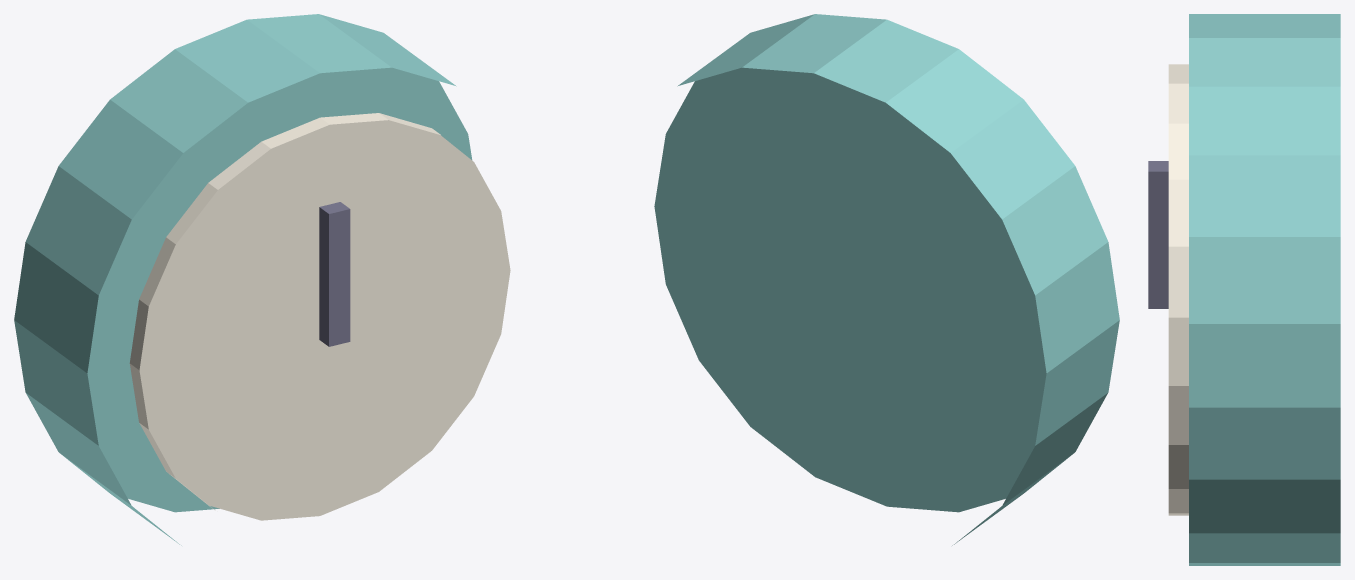
The model's file is clock.glb.
3 views of the same model, side by side, from view 1: azimuth 30°, elevation 25°; view 2: azimuth 150°, elevation 25°; view 3: azimuth 270°, elevation 25° (orthographic). The views are drawn at different scales.
Parts seen in each view (by area): view 1: face, case, hand; view 2: case; view 3: case, face, hand.
Boxes of the visible parts, <box> form: face: <box>129,113,510,520</box>; case: <box>14,14,472,545</box>; hand: <box>319,202,350,346</box>; case: <box>654,14,1119,545</box>; case: <box>1189,14,1340,565</box>; face: <box>1168,64,1188,515</box>; hand: <box>1148,161,1168,308</box>.
Size of the model in its own units: 0.55 by 0.55 by 0.19.
